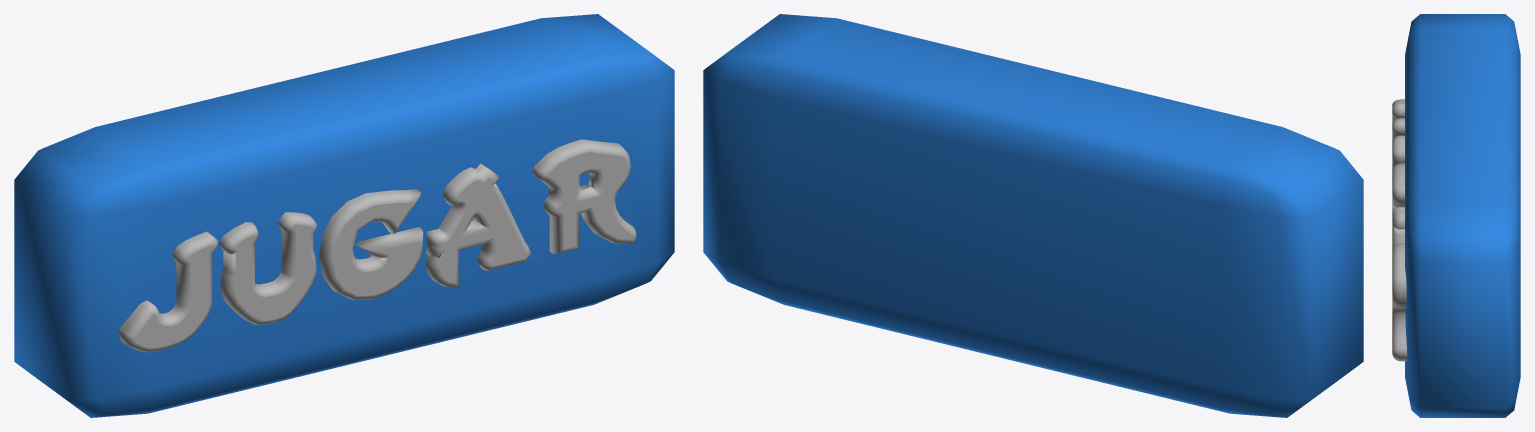
Rendered from BotonJugar.fbx.
The picture shows the model from 3 angles, left to right: view 1: azimuth 30°, elevation 25°; view 2: azimuth 150°, elevation 25°; view 3: azimuth 270°, elevation 25°; orthographic projection. The views are drawn at different scales.
Visible parts, largest first — view 1: Jugar; view 2: Jugar; view 3: Jugar.
Part boxes in pixels (x1=…): Jugar: x1=14, y1=14, x2=674, y2=417; Jugar: x1=703, y1=14, x2=1363, y2=417; Jugar: x1=1392, y1=14, x2=1520, y2=417.
Size of the model in its own units: 513 by 200 by 117.
